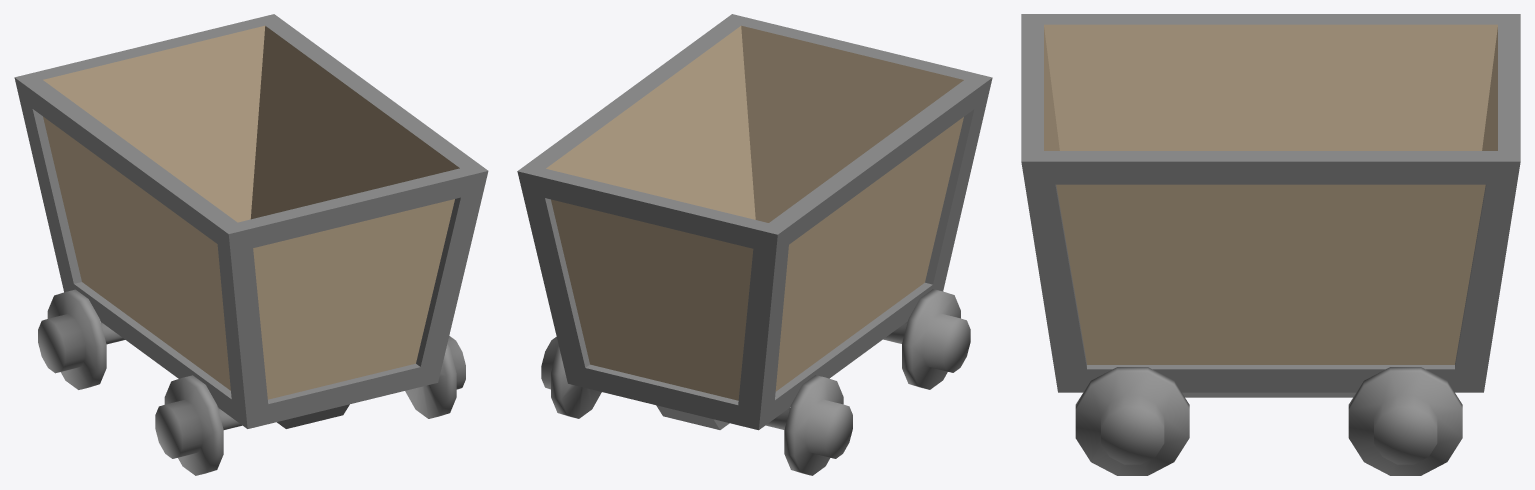
The model's file is mine_cart.dae.
3 renders of one model, left to right at view 1: azimuth 30°, elevation 25°; view 2: azimuth 150°, elevation 25°; view 3: azimuth 270°, elevation 25°, orthographic. The views are drawn at different scales.
Visible parts, largest first — view 1: MineCart; view 2: MineCart; view 3: MineCart.
Part boxes in pixels (x1,y1,x2,y2): MineCart: (14, 14, 488, 475); MineCart: (517, 14, 992, 475); MineCart: (1021, 14, 1520, 475).
Bounding box in the file's own units: 0.6988 × 0.9143 × 0.6448.
